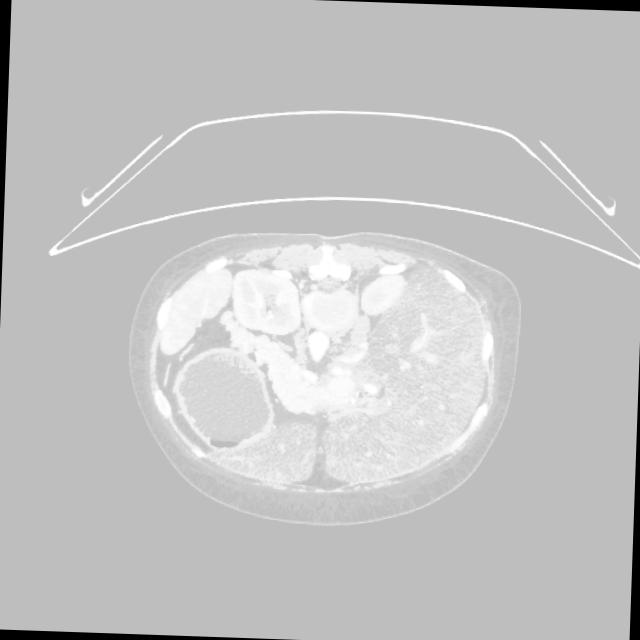NORMAL: (123, 239, 535, 535)
